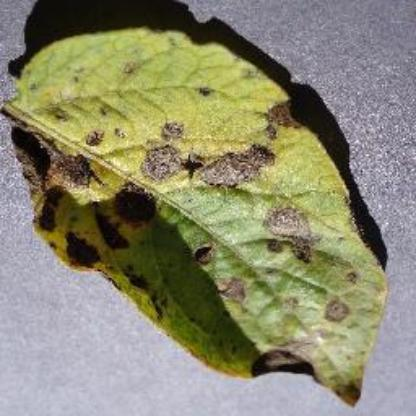Early-Blight: (9, 15, 390, 408)
